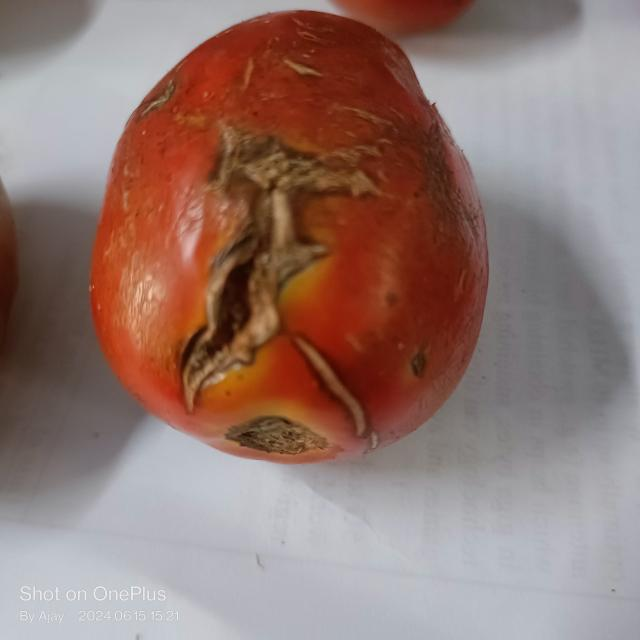tomato_cracking: (168, 89, 405, 418)
